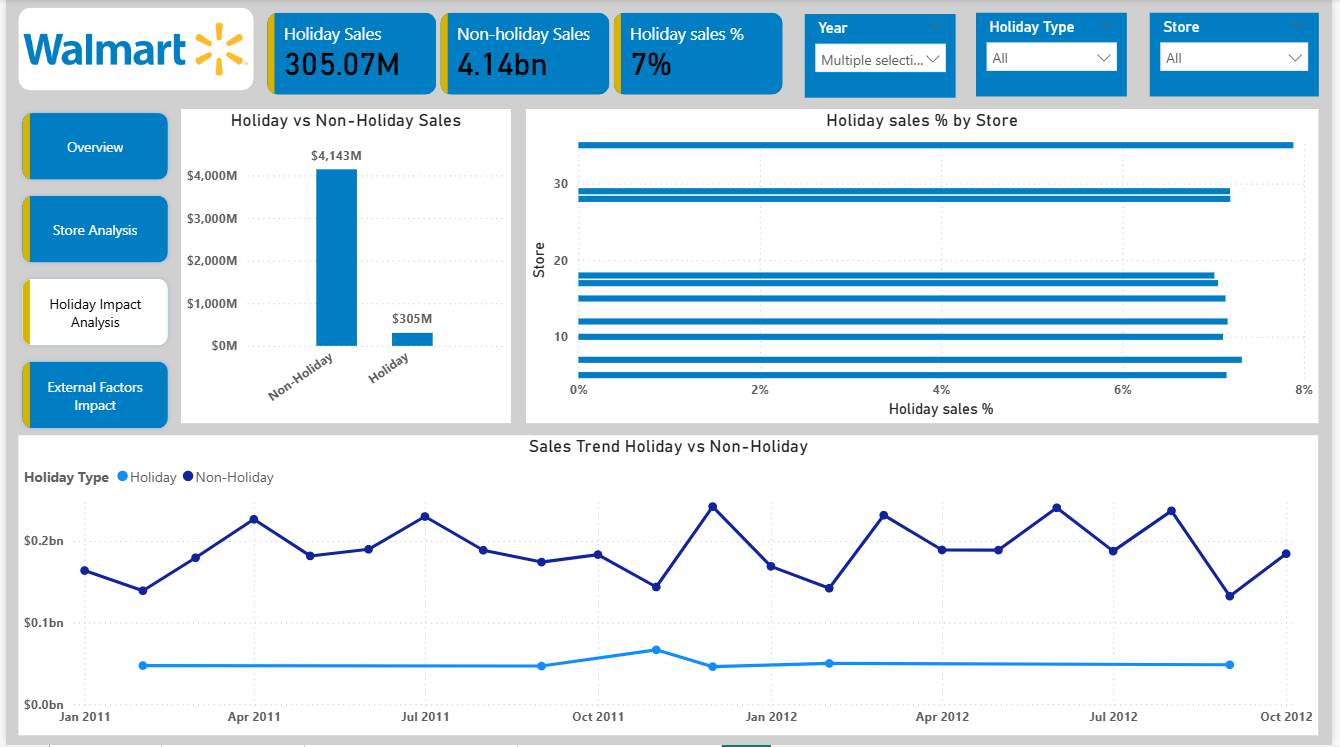

The dashboard page shown, as its layout file describes it:
{"tool":"powerbi","page":{"name":"Holiday Impact Analysis","canvas":[1280,720],"ordinal":2},"visuals":[{"type":"shape","box":[12.1,8.4,226.8,79.6],"z":0},{"type":"image","box":[12.1,8.4,226.8,79.6],"z":1000},{"type":"pageNavigator","box":[12.1,106.2,148.4,314.9],"z":2000},{"type":"clusteredColumnChart","title":"Holiday vs Non-Holiday Sales","fields":{"Y":["Walmart Sales.Total Sales"],"Category":["Walmart Sales.Holiday Type"]},"box":[168.9,106.2,318.5,302.8],"z":3000},{"type":"lineChart","title":"Sales Trend Holiday vs Non-Holiday ","fields":{"Y":["Walmart Sales.Total Sales"],"Category":["Date Table.Date.Variation.Date Hierarchy.Year","Date Table.Date.Variation.Date Hierarchy.Month"],"Series":["Walmart Sales.Holiday Type"]},"box":[12.1,421,1254.7,289.5],"z":4000},{"type":"clusteredBarChart","fields":{"Y":["Walmart Sales.Holiday sales %"],"Category":["Walmart Sales.Store"]},"box":[501.9,106.2,764.9,302.8],"z":5000},{"type":"cardVisual","fields":{"Data":["Walmart Sales.Holiday Sales","Walmart Sales.Non-holiday Sales","Walmart Sales.Holiday sales %"]},"box":[247.3,8.4,507.9,89.3],"z":6000},{"type":"slicer","fields":{"Values":["Date Table.Year"]},"box":[770.9,14.5,146,80.8],"z":7000},{"type":"slicer","fields":{"Values":["Walmart Sales.Holiday Type"]},"box":[936.2,13.3,146,80.8],"z":8000},{"type":"slicer","fields":{"Values":["Walmart Sales.Store"]},"box":[1103.9,13.3,162.9,80.8],"z":9000}]}

Visuals, with their boxes in screenshot pixels (x1, y1, x2, y2), scaled from the page's 1280x720 canvas onto the 1340x747 screenshot:
shape: 13, 9, 250, 91
image: 13, 9, 250, 91
pageNavigator: 13, 110, 168, 437
"Holiday vs Non-Holiday Sales" clusteredColumnChart: 177, 110, 510, 424
"Sales Trend Holiday vs Non-Holiday " lineChart: 13, 437, 1326, 737
clusteredBarChart - Walmart Sales.Holiday sales % x Walmart Sales.Store: 525, 110, 1326, 424
cardVisual - Walmart Sales.Holiday Sales x Walmart Sales.Non-holiday Sales: 259, 9, 791, 101
slicer - Date Table.Year: 807, 15, 960, 99
slicer - Walmart Sales.Holiday Type: 980, 14, 1133, 98
slicer - Walmart Sales.Store: 1156, 14, 1326, 98
